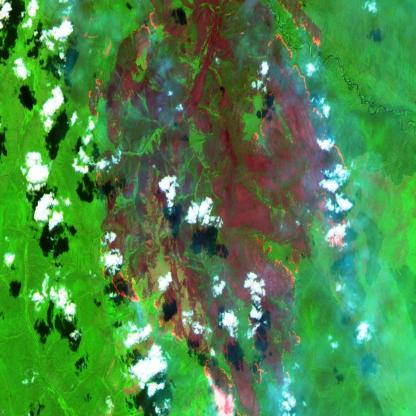fire: (88, 250, 258, 410), (237, 45, 354, 199), (76, 8, 152, 144)
